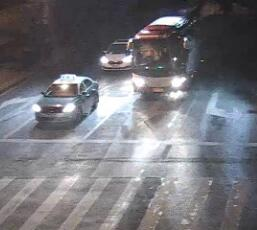bus: (125, 4, 246, 97)
car: (30, 72, 101, 128), (97, 37, 138, 72)
